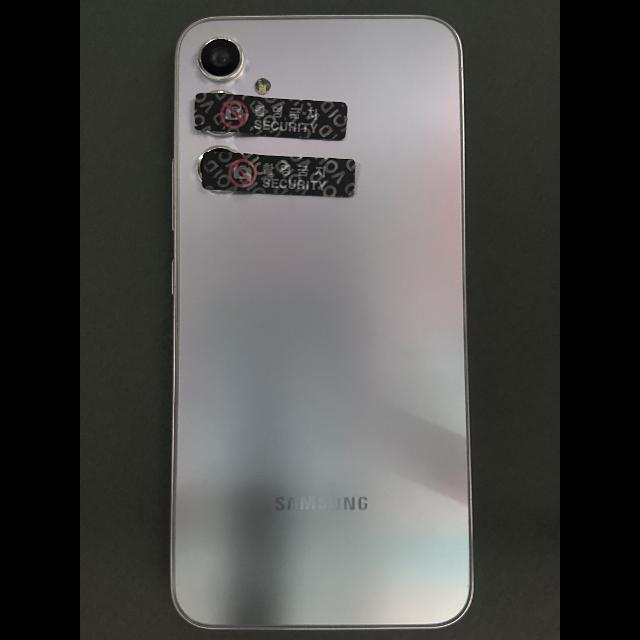lens: (197, 36, 244, 81), (197, 146, 236, 181), (207, 131, 233, 136)
phone: (169, 12, 475, 630)
sticker: (194, 93, 348, 141), (202, 151, 356, 198)
